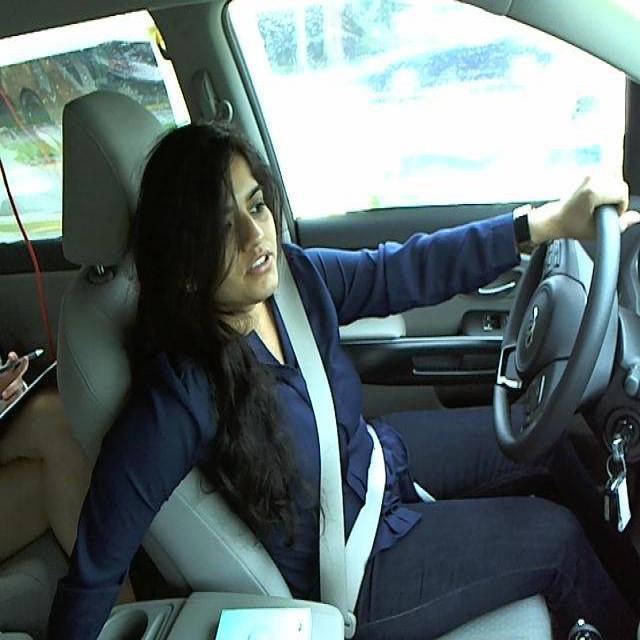seatbelt: (267, 295, 387, 600)
